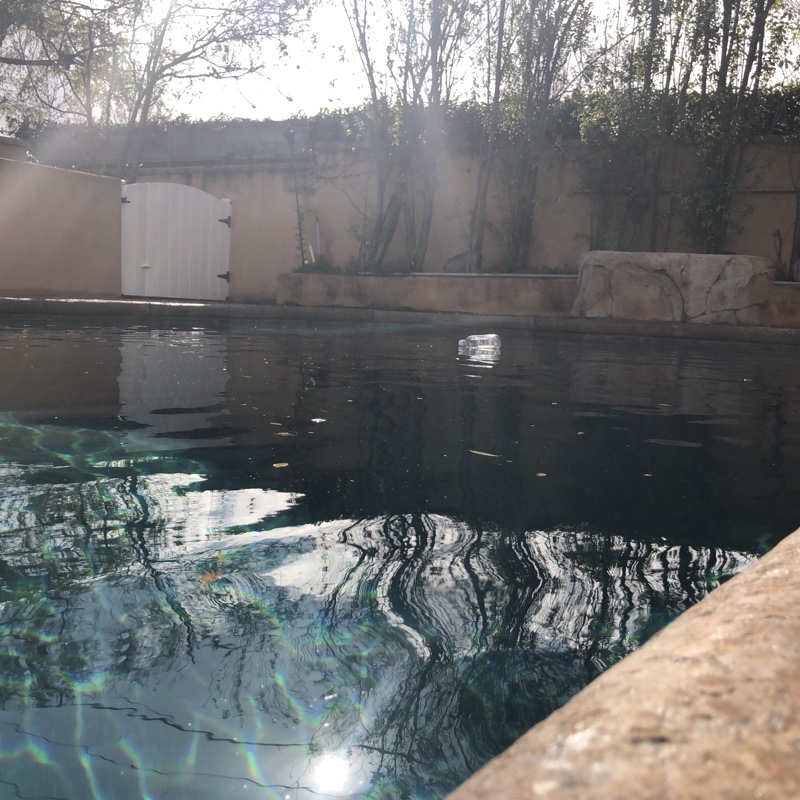Plastic Bottle: (455, 332, 504, 350)
